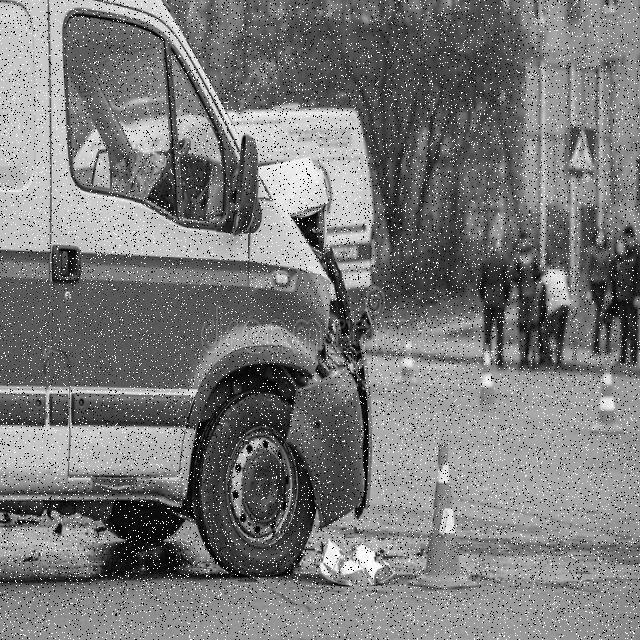front-bumper-dent: (296, 258, 388, 548)
